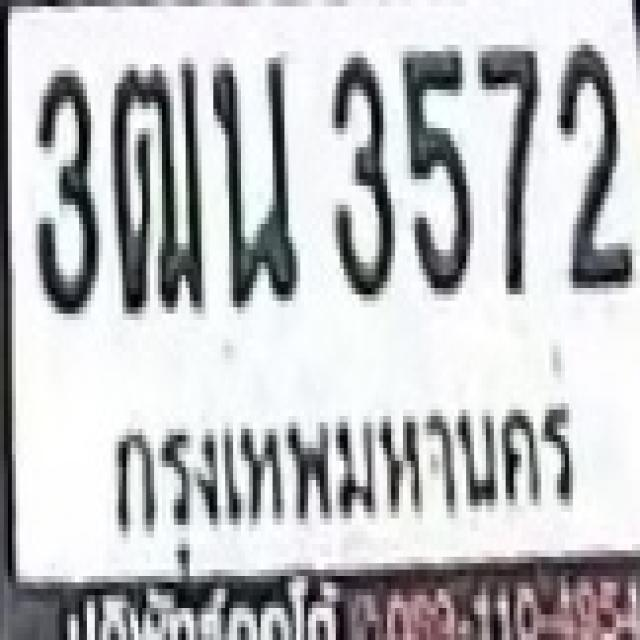-: (106, 54, 202, 310), (210, 48, 296, 304)
2: (553, 38, 628, 282)
3: (32, 64, 94, 314), (328, 52, 391, 294)
5: (399, 42, 470, 291)
7: (474, 38, 537, 288)
BKK: (99, 374, 583, 569)
